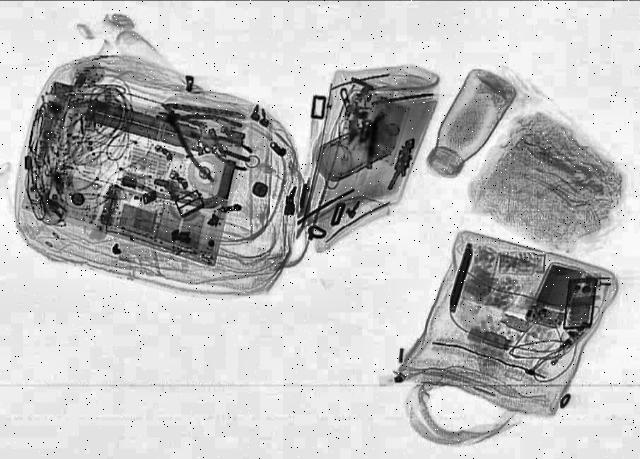Pliers: (125, 90, 268, 182), (180, 124, 264, 174)
